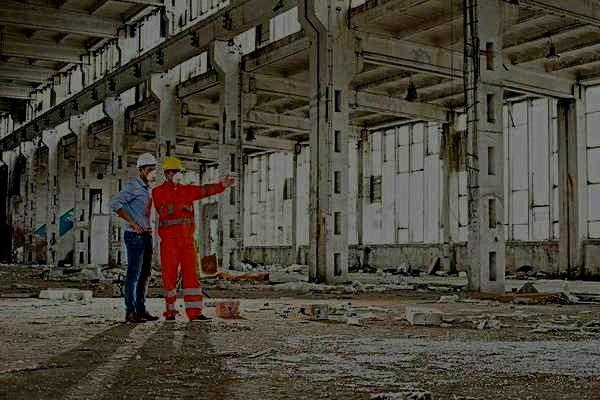helmet: (135, 152, 157, 184), (162, 157, 183, 184)
